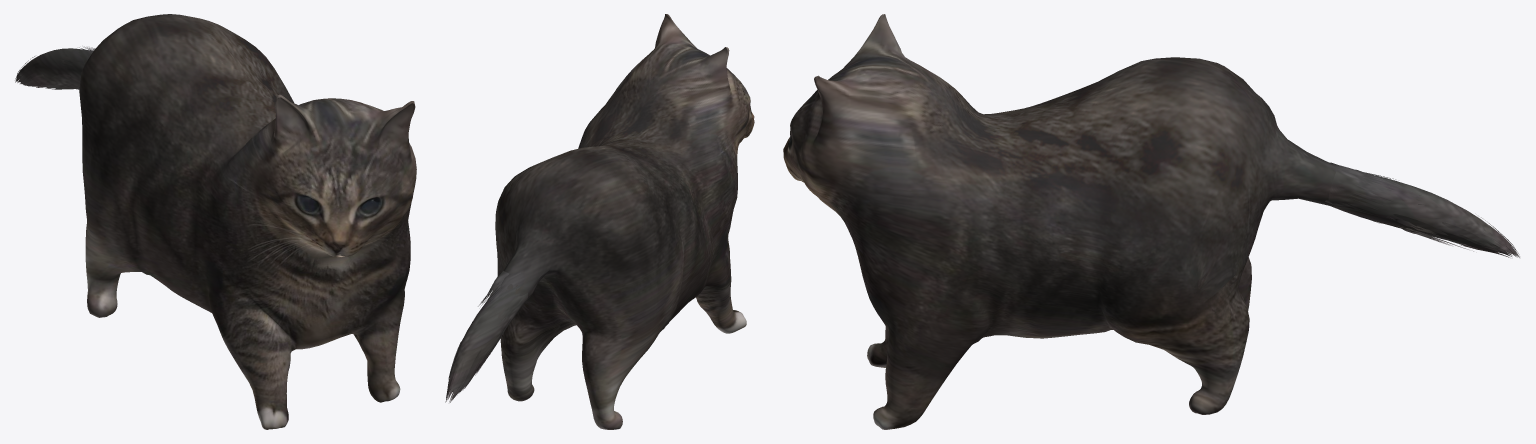
File: oiiaioooooiai_cat.glb
The picture shows the model from 3 angles, left to right: view 1: azimuth 30°, elevation 25°; view 2: azimuth 150°, elevation 25°; view 3: azimuth 270°, elevation 25°; orthographic projection. The views are drawn at different scales.
Visible parts, largest first — view 1: Muchkin1.002_4; view 2: Muchkin1.002_4; view 3: Muchkin1.002_4.
Part boxes in pixels (box(x1,y1,x2,y2)): Muchkin1.002_4: box(15, 14, 416, 429); Muchkin1.002_4: box(445, 14, 754, 429); Muchkin1.002_4: box(783, 14, 1519, 429).
Size of the model in its own units: 0.2392 by 0.3866 by 0.7242.
Materials: 1 (1 with a texture image).
